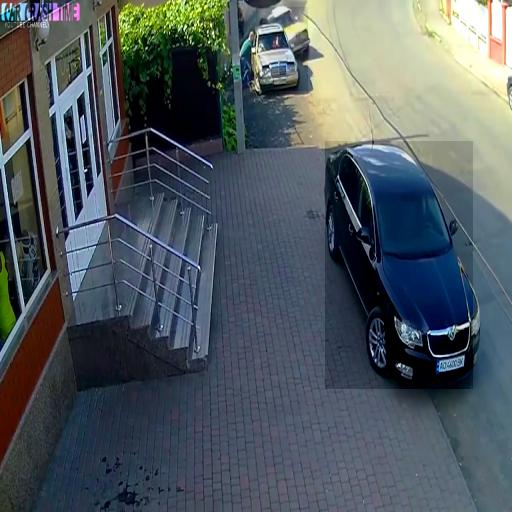小汽车: (325, 141, 473, 389)
小汽车撞小汽车: (256, 7, 308, 91)
